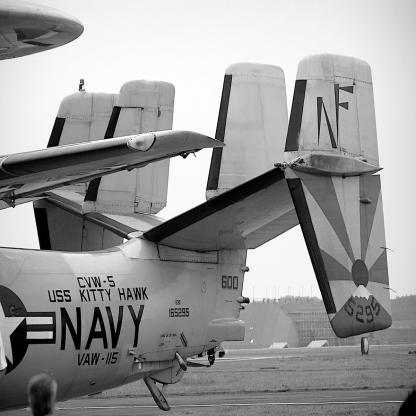E2: (2, 1, 398, 413)
